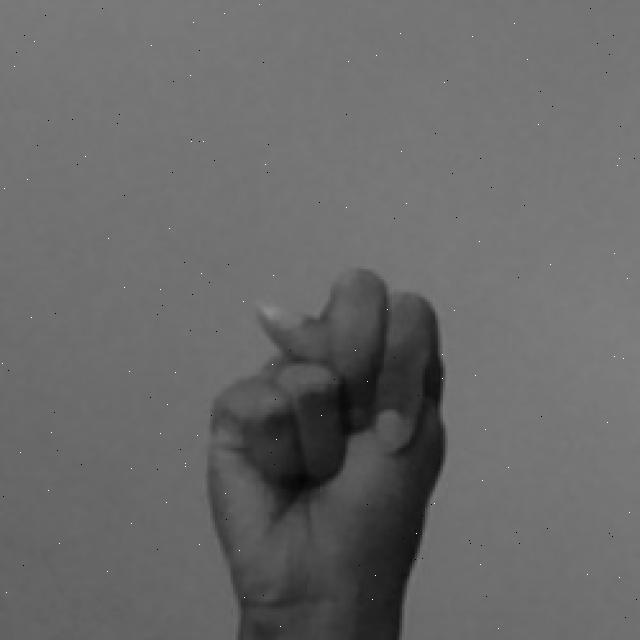N: (197, 261, 453, 640)
